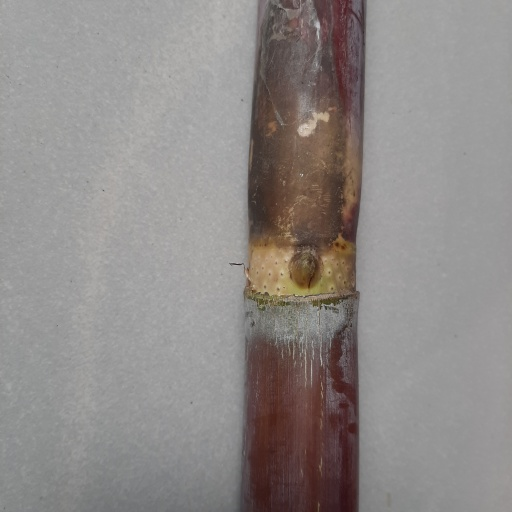Bud: (287, 252, 323, 289)
